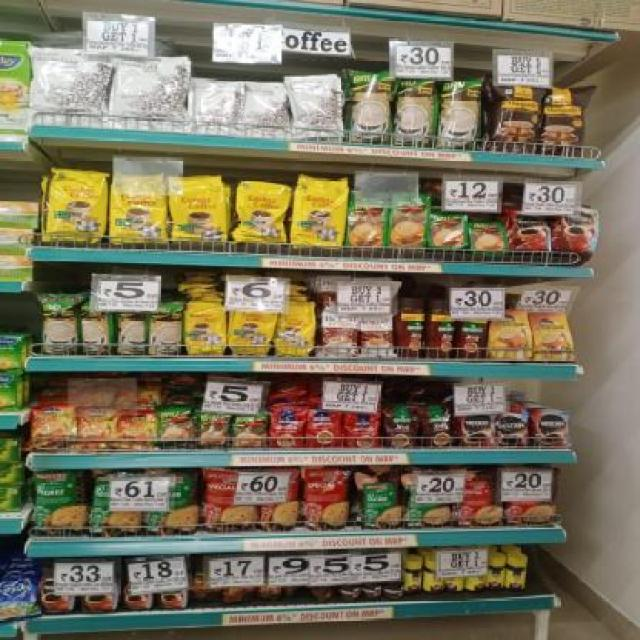Coffee: (80, 556, 122, 612), (37, 557, 78, 612), (510, 208, 550, 260), (489, 310, 531, 359), (532, 312, 573, 360), (558, 209, 596, 257), (31, 406, 74, 446), (114, 409, 155, 449), (153, 566, 190, 608), (122, 564, 155, 610), (76, 408, 112, 449), (531, 411, 569, 447), (496, 413, 530, 449), (460, 412, 494, 446), (336, 580, 362, 600), (383, 579, 405, 599), (362, 580, 386, 598)
